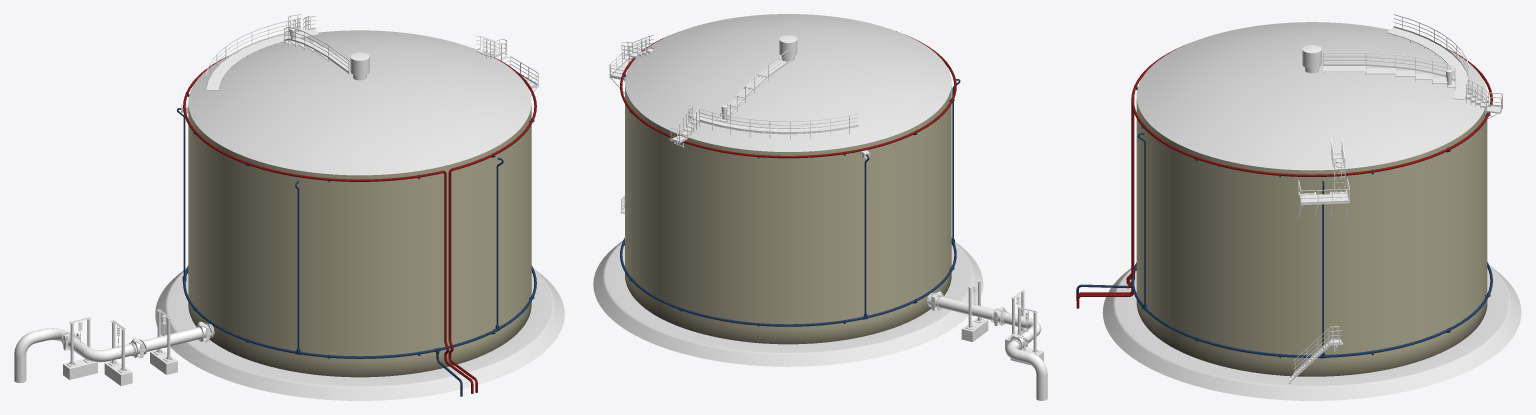
File: SM_OilStorage_10K.fbx
3 renders of one model, left to right at view 1: azimuth 30°, elevation 25°; view 2: azimuth 150°, elevation 25°; view 3: azimuth 270°, elevation 25°, orthographic. The views are drawn at different scales.
Visible parts, largest first — view 1: SM_OilWall_10K, SM_OilRoof_10K, SM_Foundatoin_10K, SM_SmallPipes_10K_LOD0, SM_BigTube_10K_LOD0, SM_IndustrialSite_V1_10K_LOD0, SM_BigTubeConcrateSupport_10K_LOD0, SM_IndustrialSite_V3_10K_LOD0, SM_Porch_10K_LOD0, SM_BigVentilation_10K_LOD0; view 2: SM_OilWall_10K, SM_OilRoof_10K, SM_Foundatoin_10K, SM_SmallPipes_10K_LOD0, SM_BigTube_10K_LOD0, SM_IndustrialSite_V1_10K_LOD0, SM_IndustrialSite_V3_10K_LOD0, SM_Porch_10K_LOD0, SM_BigTubeConcrateSupport_10K_LOD0, SM_Ladder_V1_10K_LOD0, SM_BigVentilation_10K_LOD0; view 3: SM_OilWall_10K, SM_OilRoof_10K, SM_Foundatoin_10K, SM_SmallPipes_10K_LOD0, SM_IndustrialSite_V3_10K_LOD0, SM_IndustrialSite_V1_10K_LOD0, SM_Porch_10K_LOD0, SM_Ladder_V1_10K_LOD0, SM_Ladder_V3_10K_LOD0, SM_BigVentilation_10K_LOD0.
Part boxes in pixels (<box>): SM_OilWall_10K: <box>188,105,531,377</box>; SM_OilRoof_10K: <box>188,30,531,175</box>; SM_Foundatoin_10K: <box>155,268,564,400</box>; SM_SmallPipes_10K_LOD0: <box>177,48,536,396</box>; SM_BigTube_10K_LOD0: <box>14,309,214,382</box>; SM_IndustrialSite_V1_10K_LOD0: <box>205,16,319,91</box>; SM_BigTubeConcrateSupport_10K_LOD0: <box>63,349,177,385</box>; SM_IndustrialSite_V3_10K_LOD0: <box>284,27,350,74</box>; SM_Porch_10K_LOD0: <box>476,35,538,95</box>; SM_BigVentilation_10K_LOD0: <box>350,52,369,80</box>; SM_OilWall_10K: <box>625,86,951,344</box>; SM_OilRoof_10K: <box>625,14,951,151</box>; SM_Foundatoin_10K: <box>593,241,983,366</box>; SM_SmallPipes_10K_LOD0: <box>620,31,960,326</box>; SM_BigTube_10K_LOD0: <box>927,279,1047,400</box>; SM_IndustrialSite_V1_10K_LOD0: <box>688,104,858,139</box>; SM_IndustrialSite_V3_10K_LOD0: <box>716,50,788,122</box>; SM_Porch_10K_LOD0: <box>609,35,653,93</box>; SM_BigTubeConcrateSupport_10K_LOD0: <box>961,317,1043,364</box>; SM_Ladder_V1_10K_LOD0: <box>669,106,699,147</box>; SM_BigVentilation_10K_LOD0: <box>779,35,797,61</box>; SM_OilWall_10K: <box>1136,99,1487,376</box>; SM_OilRoof_10K: <box>1136,22,1487,170</box>; SM_Foundatoin_10K: <box>1102,265,1521,400</box>; SM_SmallPipes_10K_LOD0: <box>1076,43,1492,358</box>; SM_IndustrialSite_V3_10K_LOD0: <box>1323,52,1455,89</box>; SM_IndustrialSite_V1_10K_LOD0: <box>1387,14,1469,103</box>; SM_Porch_10K_LOD0: <box>1298,136,1349,217</box>; SM_Ladder_V1_10K_LOD0: <box>1466,79,1503,119</box>; SM_Ladder_V3_10K_LOD0: <box>1293,327,1330,377</box>; SM_BigVentilation_10K_LOD0: <box>1302,45,1321,73</box>.
Size of what is drawn, in the model's own units: 46.56 by 25.42 by 36.15.
